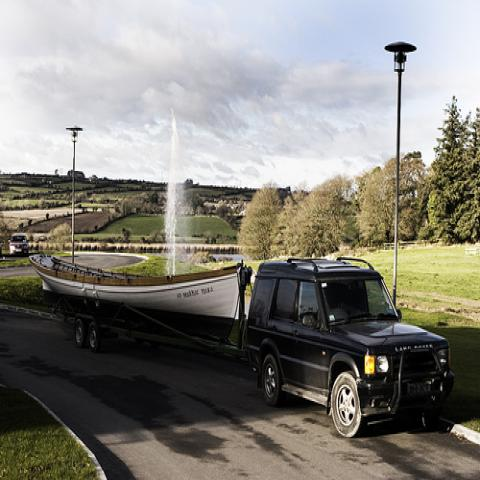car: (8, 233, 30, 256)
truck: (238, 257, 453, 441), (8, 234, 27, 255)
